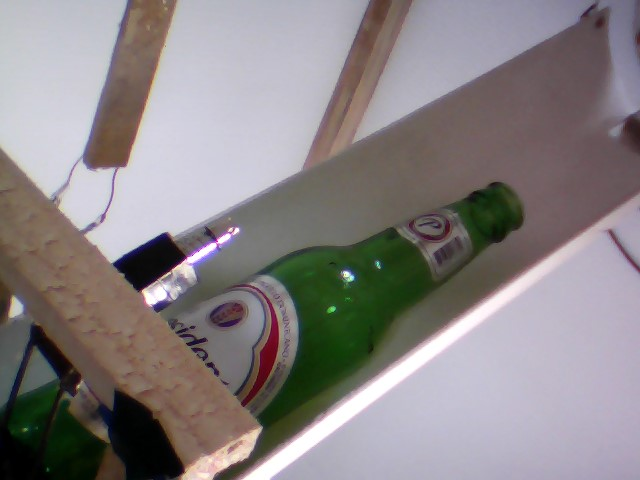vidrio: (166, 175, 539, 421)
